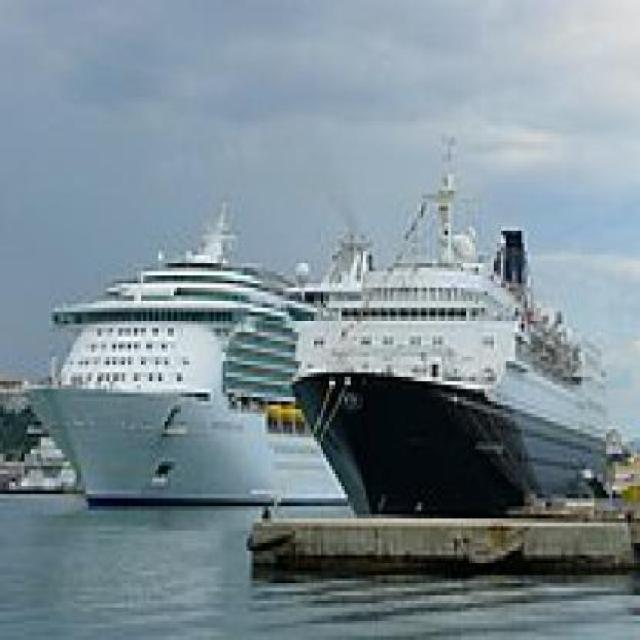cruise: (287, 122, 626, 516), (20, 187, 364, 512)
